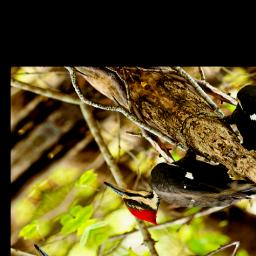Woodpecker: (97, 116, 256, 256)
